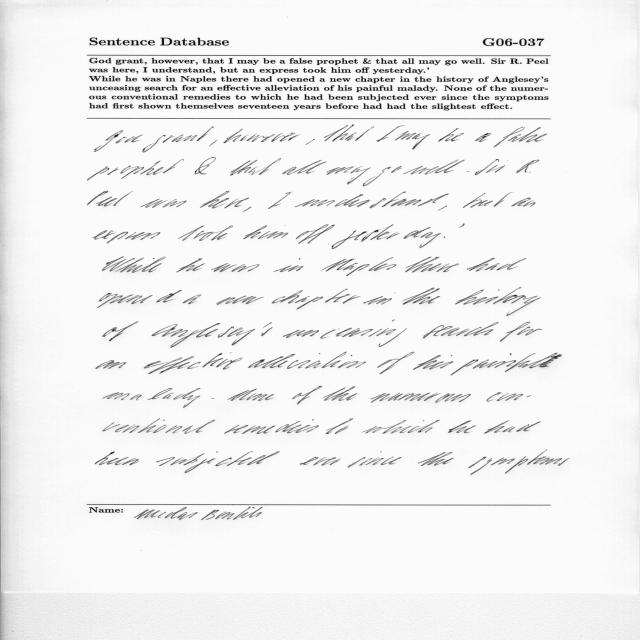word: (283, 320, 407, 347), (152, 322, 273, 348), (331, 224, 441, 249), (157, 451, 280, 473), (294, 192, 449, 209), (450, 353, 562, 376), (468, 450, 569, 475), (455, 287, 540, 316), (144, 353, 242, 374), (87, 159, 184, 180), (248, 352, 366, 369), (103, 388, 201, 408), (142, 127, 214, 153), (272, 289, 361, 310), (103, 419, 215, 434), (98, 290, 182, 308), (321, 257, 397, 276), (224, 419, 319, 434), (423, 322, 498, 339), (371, 392, 471, 403), (362, 420, 440, 434), (102, 256, 166, 273), (223, 129, 300, 143), (494, 127, 547, 147), (95, 130, 143, 152), (403, 160, 465, 175), (230, 158, 281, 176), (348, 451, 402, 468), (200, 191, 249, 209), (178, 225, 233, 241), (94, 231, 161, 244), (405, 257, 459, 273), (324, 125, 374, 142), (500, 322, 542, 342), (377, 352, 414, 374), (363, 166, 403, 186), (484, 420, 541, 434), (327, 167, 371, 185), (463, 192, 512, 208), (296, 224, 335, 244), (467, 258, 526, 271), (88, 191, 134, 207), (103, 322, 138, 342), (402, 287, 440, 305), (282, 160, 327, 175), (395, 131, 430, 149), (244, 226, 289, 240), (95, 452, 139, 466), (413, 355, 454, 370), (228, 389, 274, 401), (292, 387, 322, 405), (475, 159, 505, 176), (324, 386, 358, 401), (418, 452, 454, 466), (376, 125, 404, 142), (211, 263, 260, 272), (273, 258, 304, 272), (216, 296, 264, 305), (140, 199, 187, 208), (268, 192, 292, 209), (176, 259, 205, 273), (486, 393, 531, 402), (326, 419, 353, 434), (194, 158, 216, 175), (300, 457, 341, 466), (438, 128, 464, 142), (448, 421, 476, 434), (516, 160, 539, 173), (96, 360, 126, 369), (364, 296, 392, 305), (511, 198, 536, 207), (183, 295, 202, 304), (475, 133, 491, 142), (209, 140, 218, 147), (306, 139, 315, 145), (243, 207, 252, 212), (438, 206, 447, 211), (459, 224, 465, 228), (467, 171, 470, 172), (212, 398, 215, 399), (444, 236, 445, 238)
